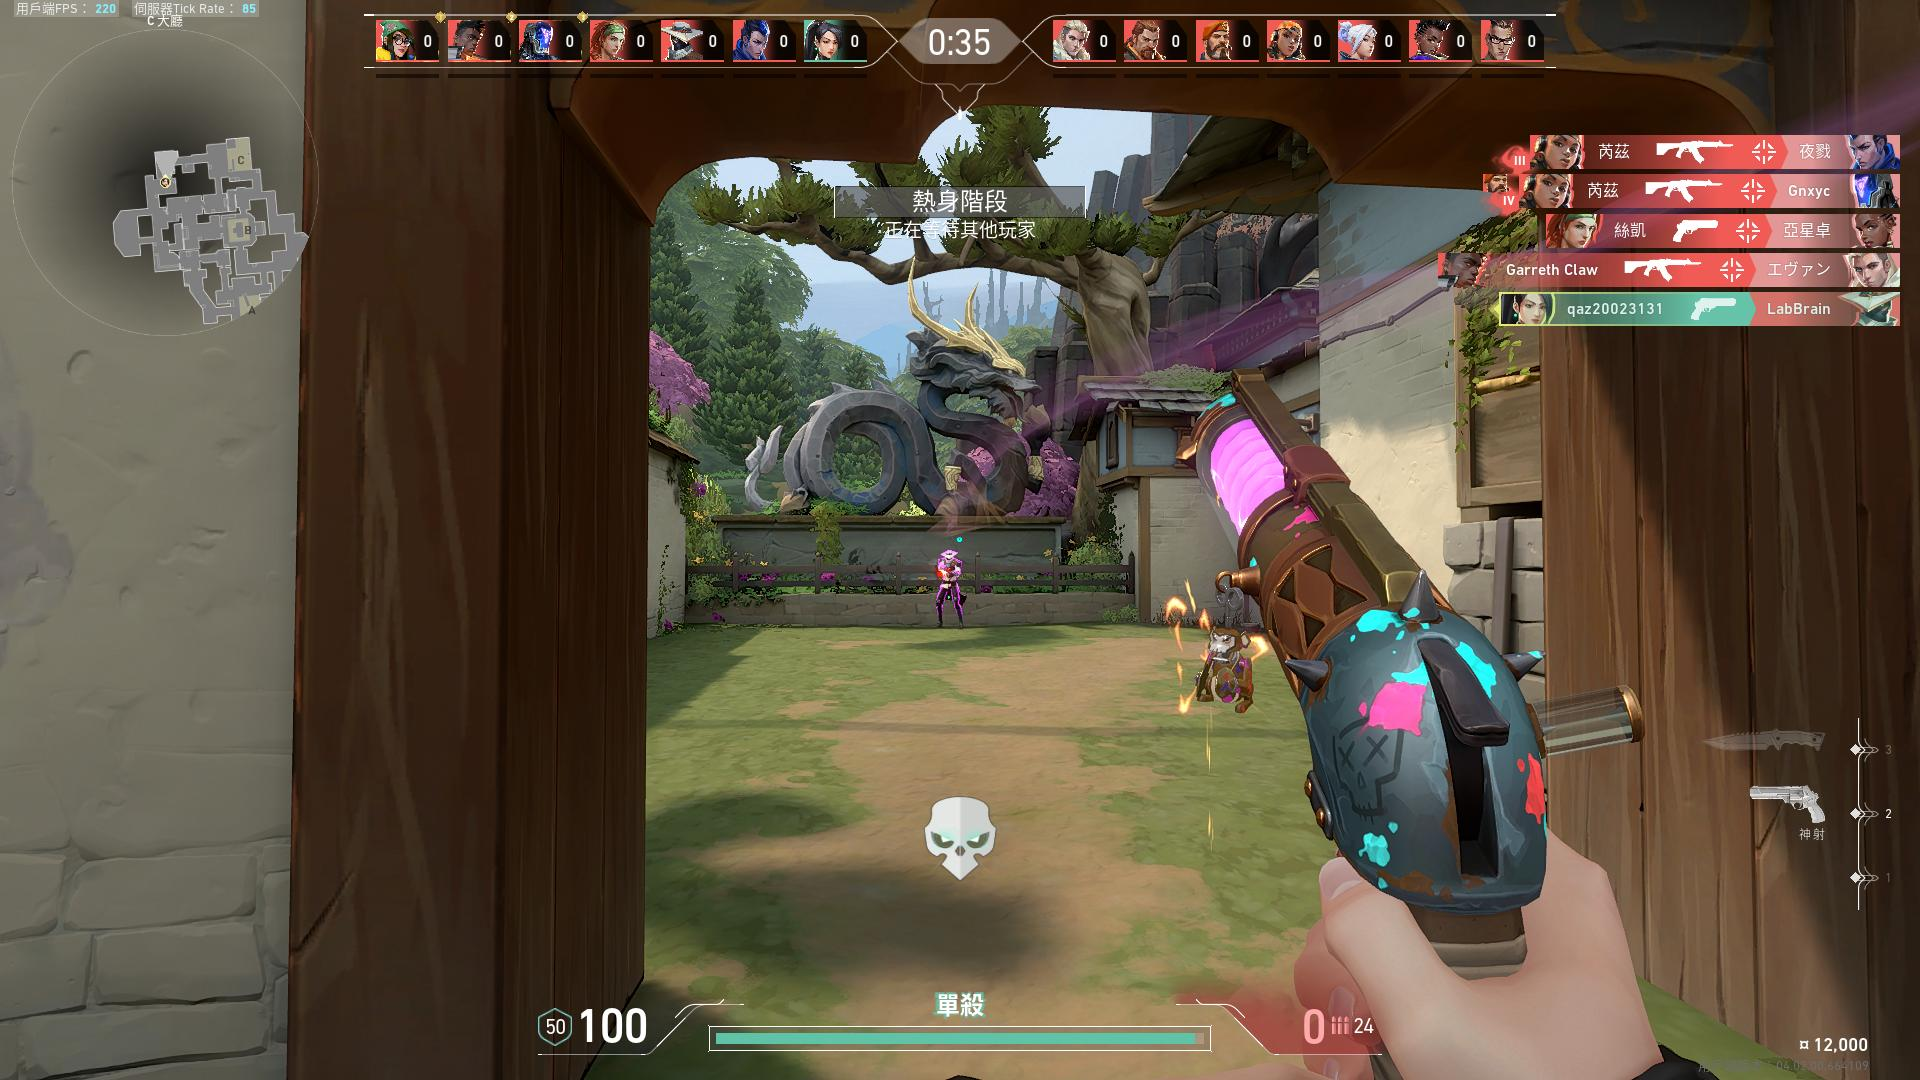enemyBody: (945, 562, 953, 584)
enemyHead: (945, 555, 951, 560)
